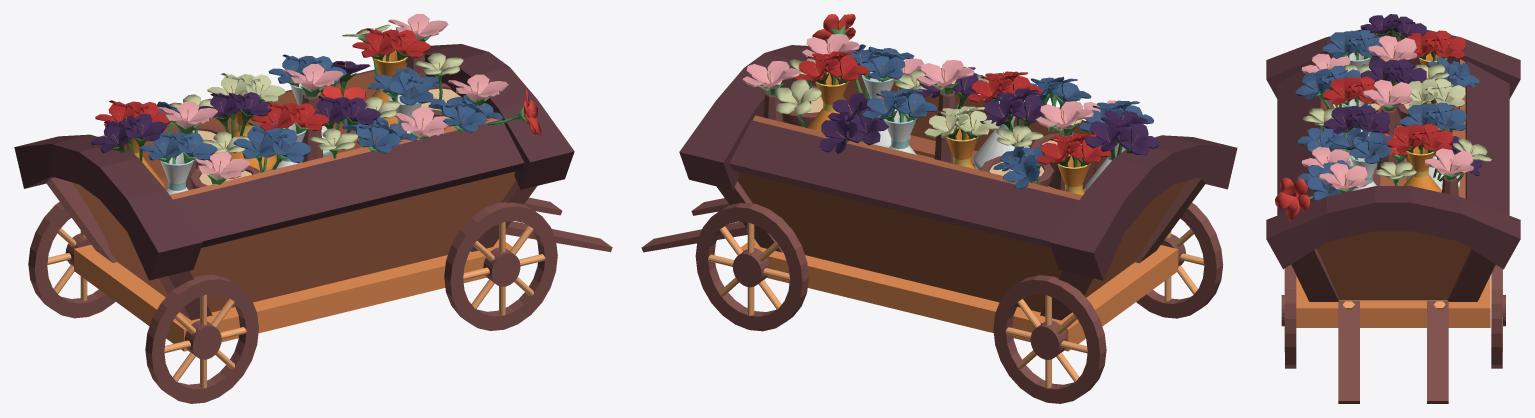
File: Carroça-Flor.fbx
3 renders of one model, left to right at view 1: azimuth 30°, elevation 25°; view 2: azimuth 150°, elevation 25°; view 3: azimuth 270°, elevation 25°, orthographic. The views are drawn at different scales.
Parts seen in each view (by area): view 1: Cylinder.008; view 2: Cylinder.008; view 3: Cylinder.008.
Boxes of the visible parts, box(x1,y1,x2,y2) form: Cylinder.008: box(14, 14, 612, 403); Cylinder.008: box(641, 14, 1237, 403); Cylinder.008: box(1266, 14, 1520, 403).
Size of the model in its own units: 2.18 by 1.06 by 1.1.
